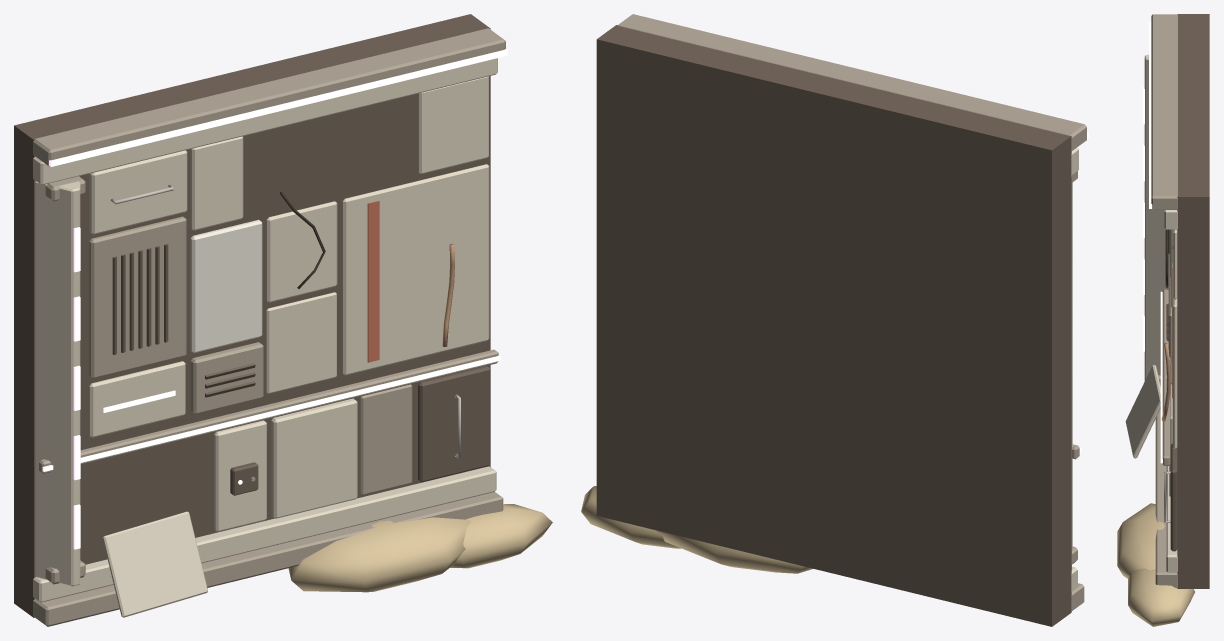
The model's file is wall_du_plate2.glb.
3 views of the same model, side by side, from view 1: azimuth 30°, elevation 25°; view 2: azimuth 150°, elevation 25°; view 3: azimuth 270°, elevation 25° (orthographic). The views are drawn at different scales.
Parts seen in each view (by area): view 1: wall_du_plate2; view 2: wall_du_plate2; view 3: wall_du_plate2.
Boxes of the visible parts, x1,y1,x2,y2 form: wall_du_plate2: [14, 14, 552, 626]; wall_du_plate2: [581, 14, 1088, 626]; wall_du_plate2: [1117, 14, 1209, 626].
Size of the model in its own units: 4.42 by 4.34 by 0.8536.
